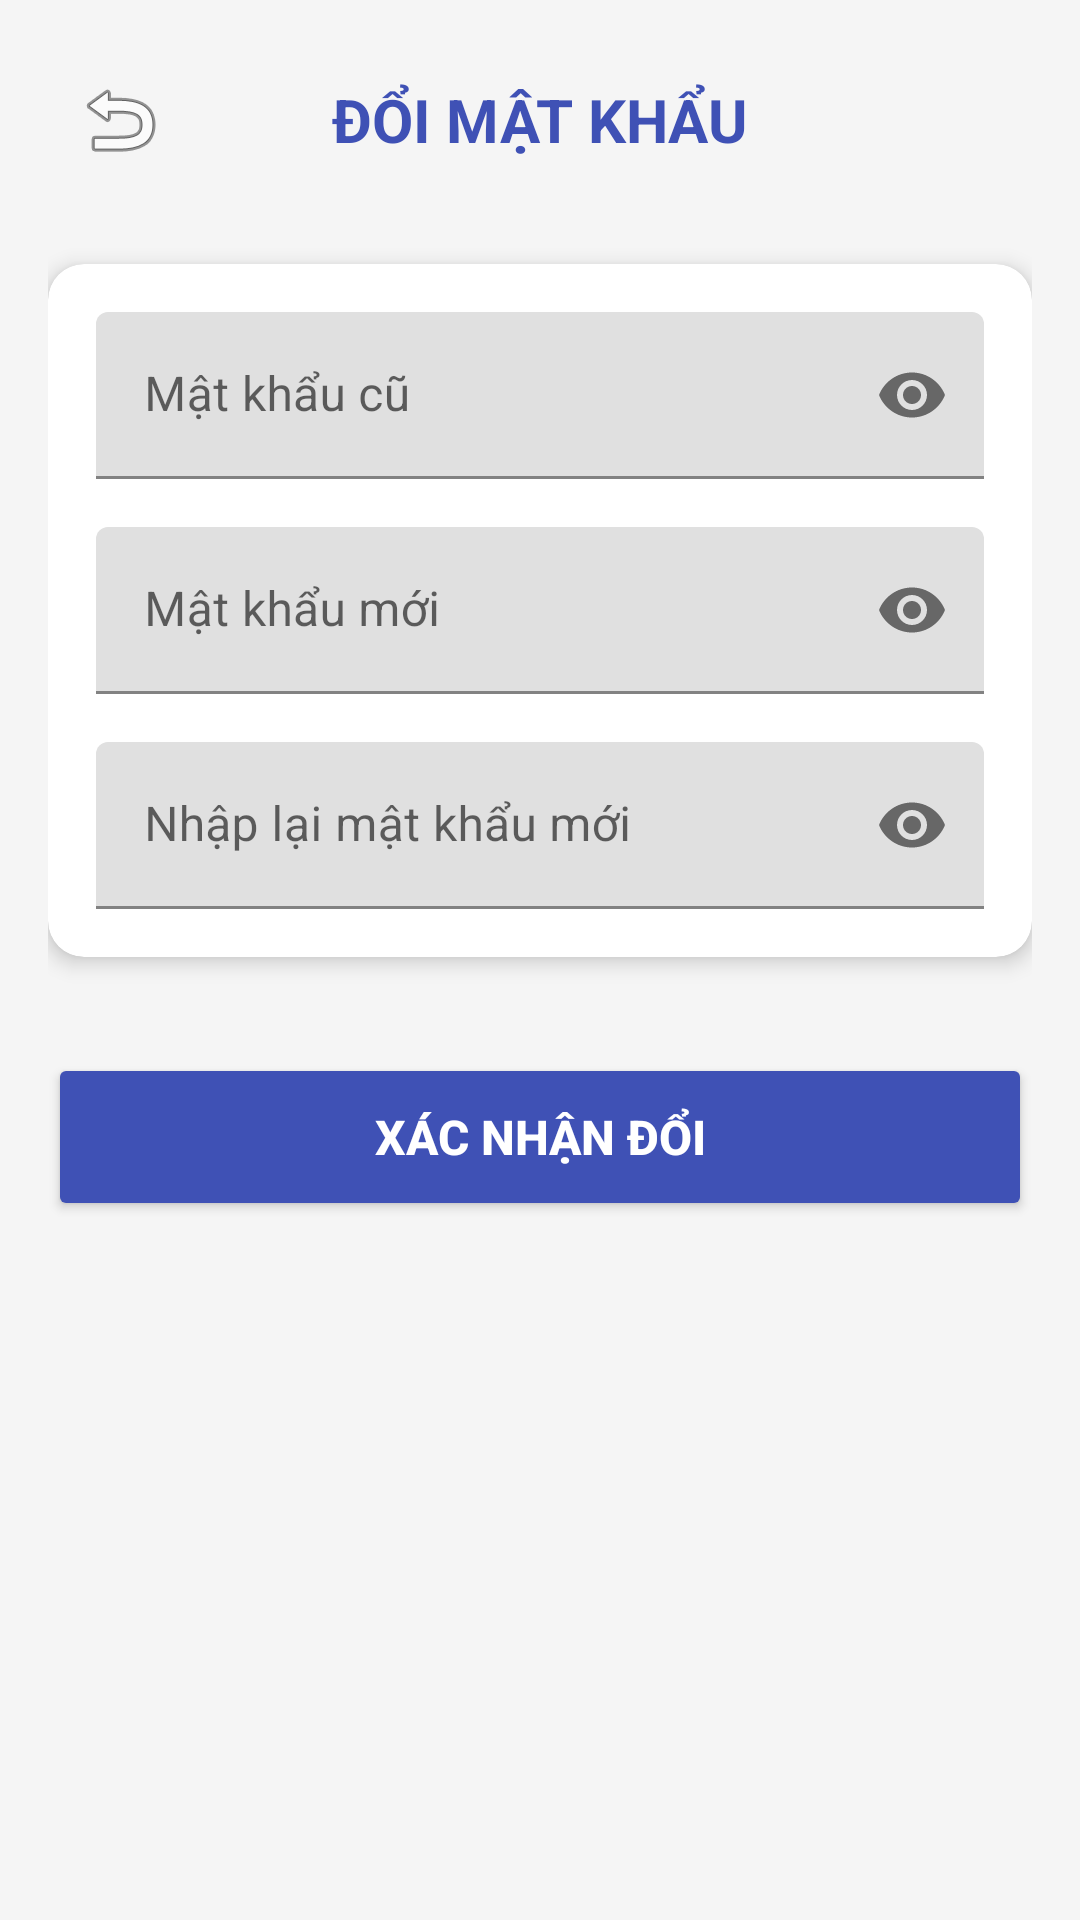

Screen size 1080 × 1920. Icon name, then its center in pixels as (x=x, y=y):
Quay lại: (x=121, y=120)
